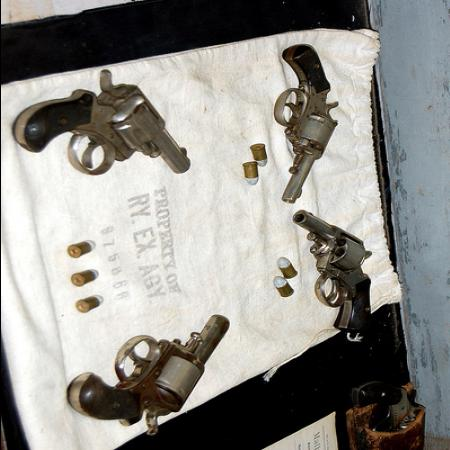Pistol: (64, 308, 231, 436), (11, 68, 195, 176), (292, 212, 376, 332), (276, 43, 338, 203), (347, 381, 430, 449)
